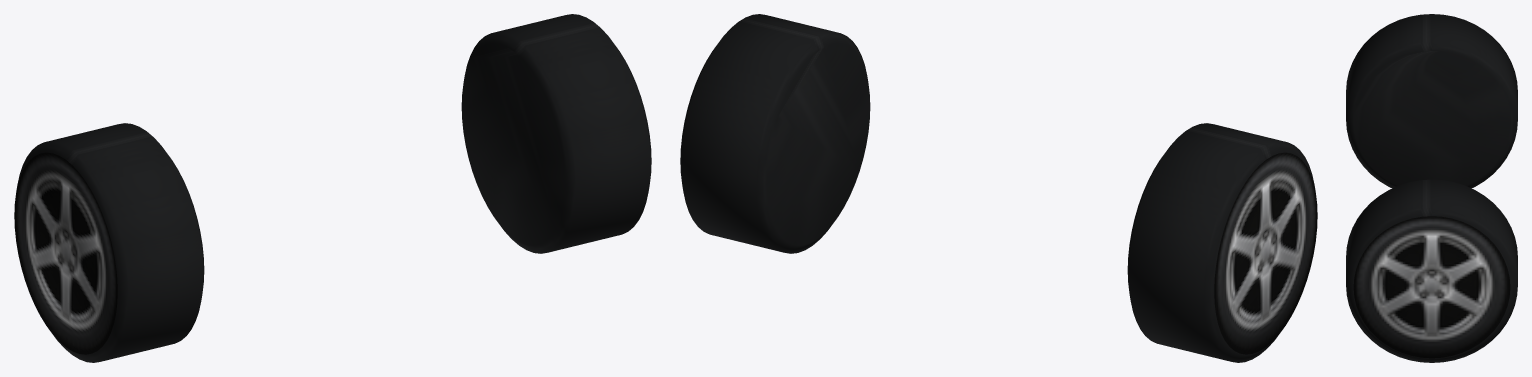
The model's file is gtr_99_wheels_r.obj.
3 renders of one model, left to right at view 1: azimuth 30°, elevation 25°; view 2: azimuth 150°, elevation 25°; view 3: azimuth 270°, elevation 25°, orthographic. The views are drawn at different scales.
Parts seen in each view (by area): view 1: gtr_99_wheels_r; view 2: gtr_99_wheels_r; view 3: gtr_99_wheels_r.
Boxes of the visible parts, x1,y1,x2,y2 form: gtr_99_wheels_r: (14,14,651,362); gtr_99_wheels_r: (680,14,1317,362); gtr_99_wheels_r: (1346,14,1517,362).
Bounding box in the file's own units: 1.79 × 0.6579 × 0.6579.
